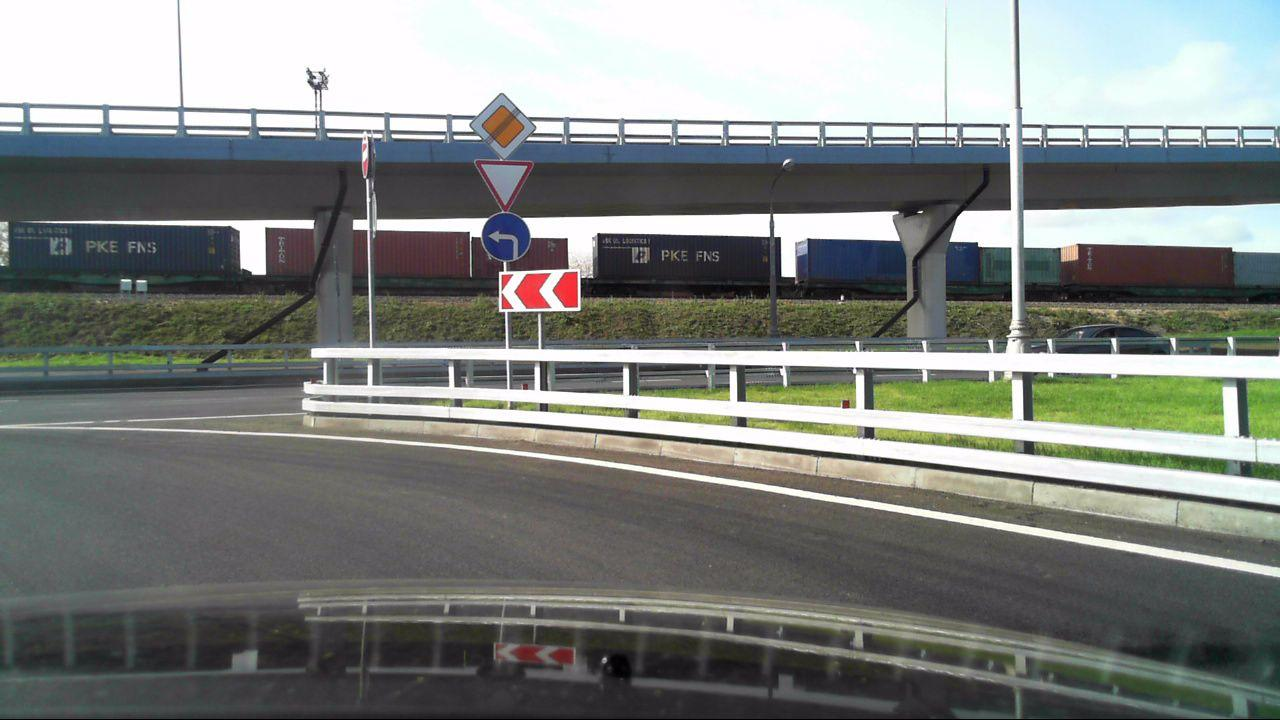1_34_2: (499, 268, 580, 313)
2_2: (469, 94, 536, 157)
2_4: (472, 159, 534, 213)
3_1: (356, 131, 373, 177)
4_1_3: (478, 213, 532, 263)
